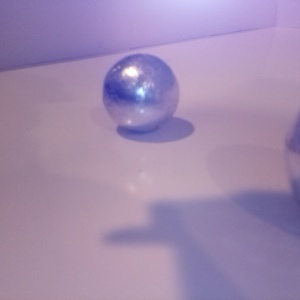alive_ball: (102, 53, 180, 132), (284, 108, 300, 196)
